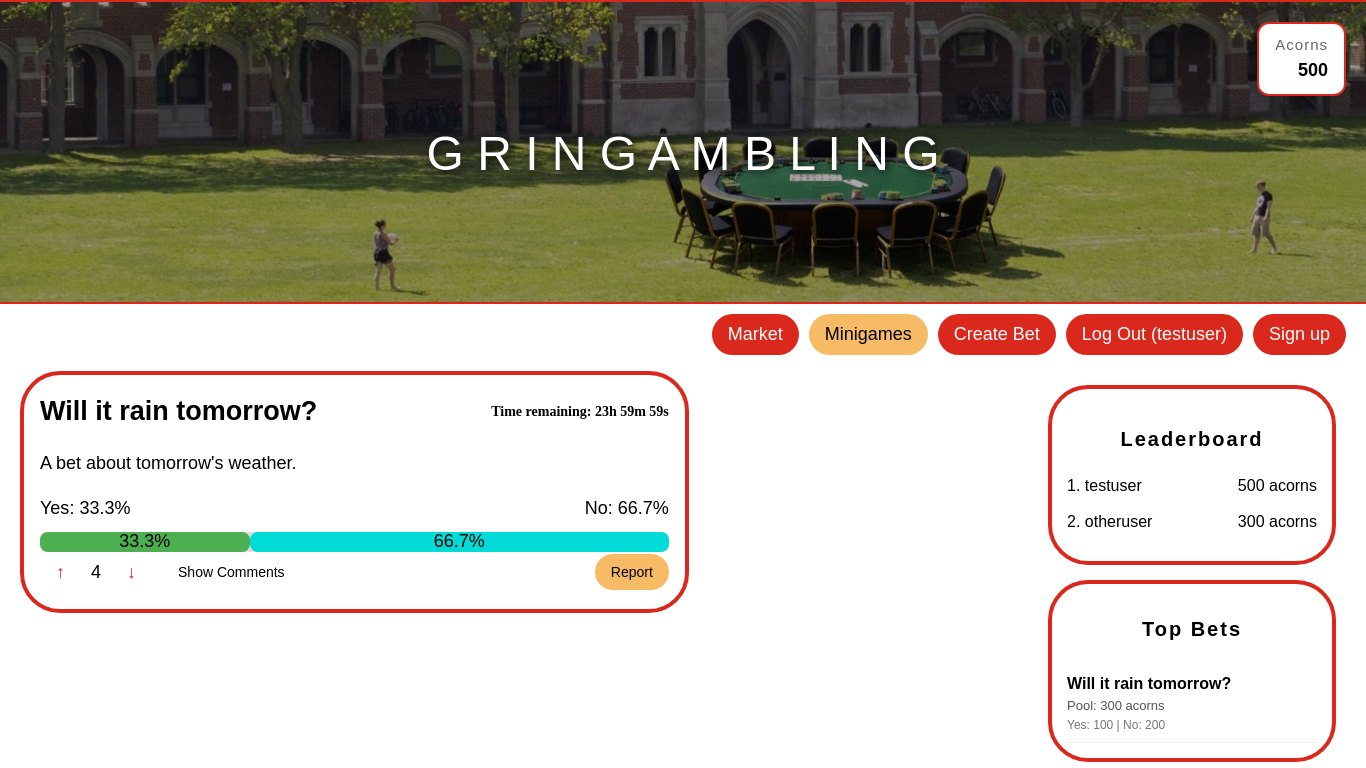
Test: market creation › logged-in user can open create bet modal
This screenshot has width=1366, height=768.
Click the button "Create Bet": point(997, 334) [938,314,1056,355]
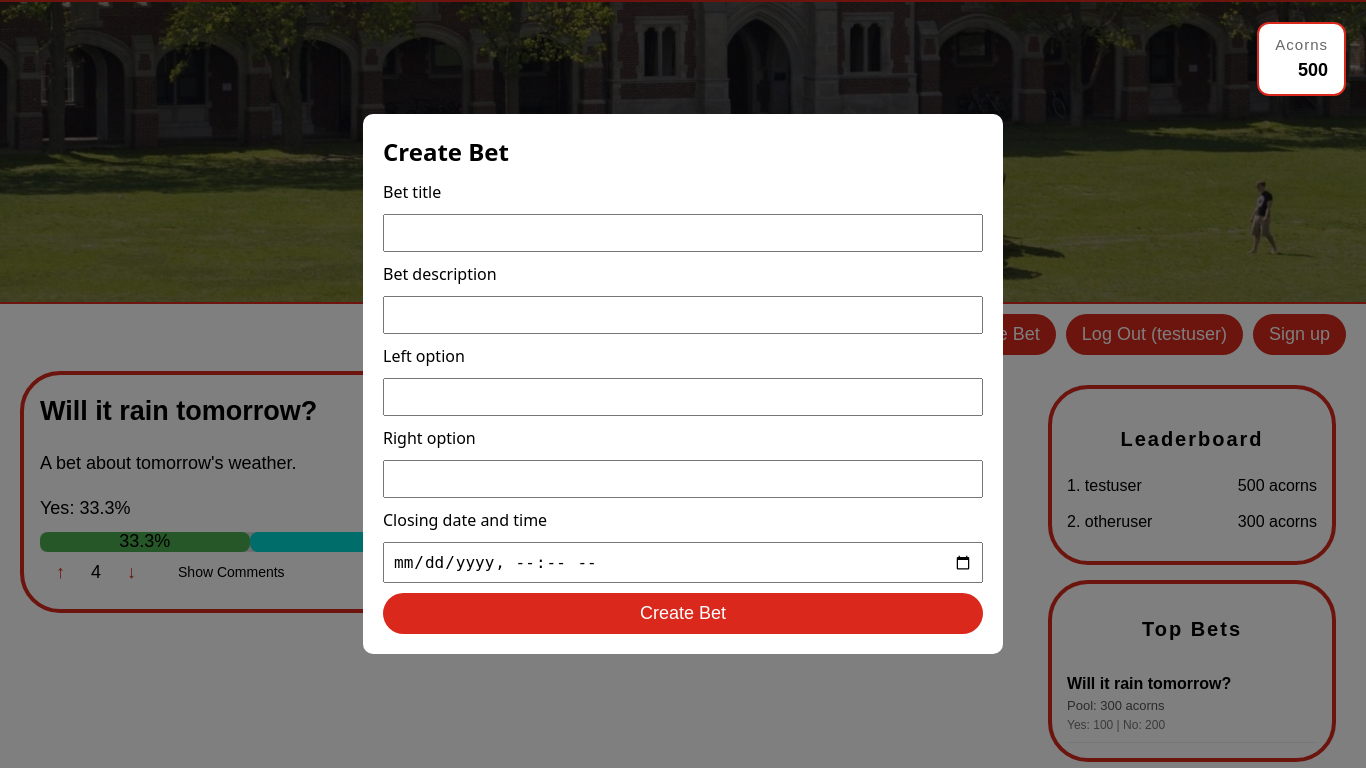
Now the dialog "Create Bet" is shown, box [363,114,1003,654]
